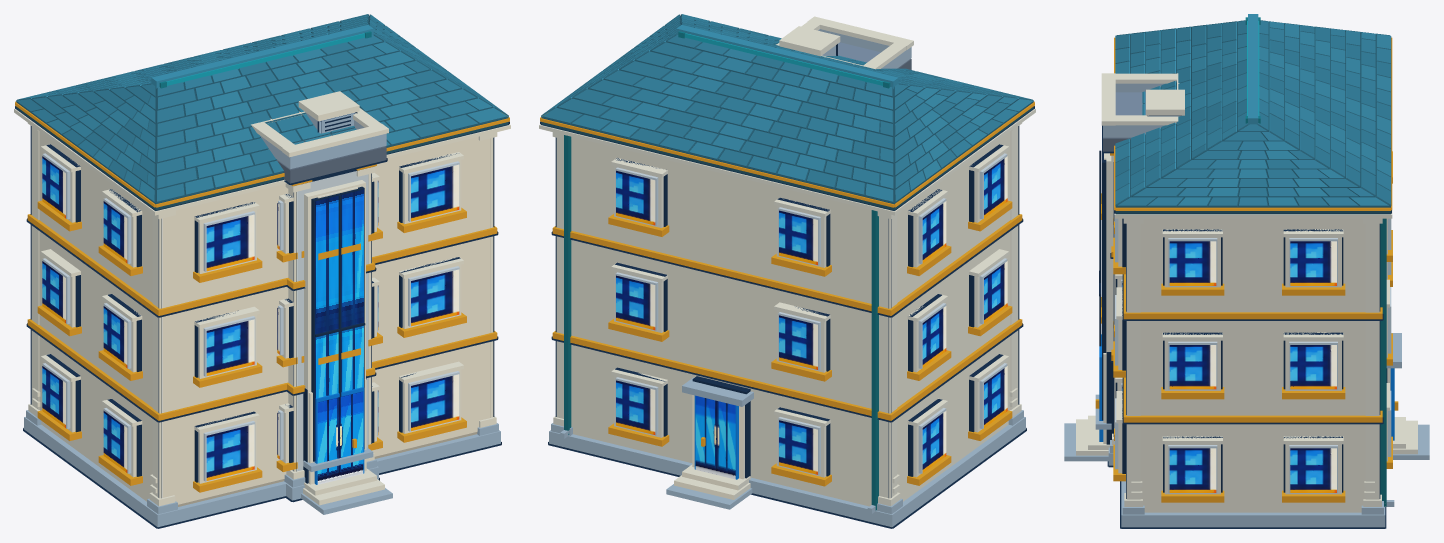
The picture shows the model from 3 angles, left to right: view 1: azimuth 30°, elevation 25°; view 2: azimuth 150°, elevation 25°; view 3: azimuth 270°, elevation 25°; orthographic projection.
Visible parts, largest first — view 1: A06 竖窗楼梯公寓; view 2: A06 竖窗楼梯公寓; view 3: A06 竖窗楼梯公寓.
Part boxes in pixels (left/top/right/bottom): A06 竖窗楼梯公寓: left=14, top=14, right=510, bottom=528; A06 竖窗楼梯公寓: left=539, top=14, right=1035, bottom=528; A06 竖窗楼梯公寓: left=1064, top=14, right=1429, bottom=528.
Size of the model in its own units: 7.84 by 8.08 by 7.05.
Materials: 2 (1 with a texture image).
